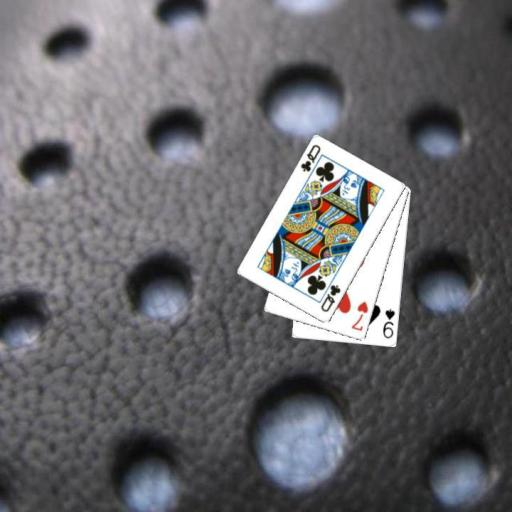7H: (348, 298, 370, 333)
9S: (380, 306, 397, 340)
QC: (297, 142, 322, 174), (318, 282, 342, 314)
